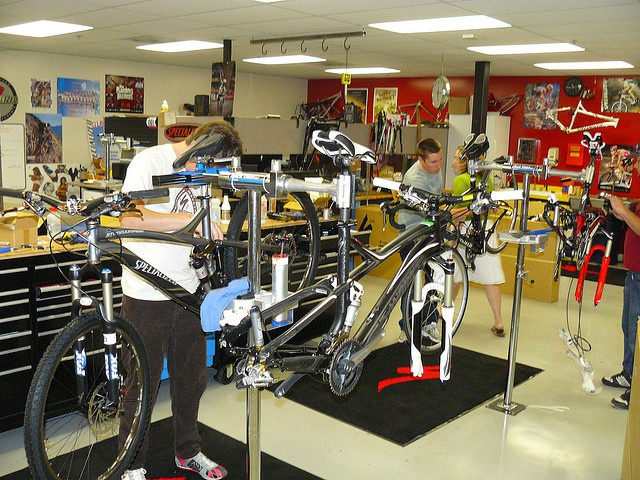non-vehicle: (1, 184, 324, 480), (372, 130, 542, 272), (329, 227, 471, 394)
